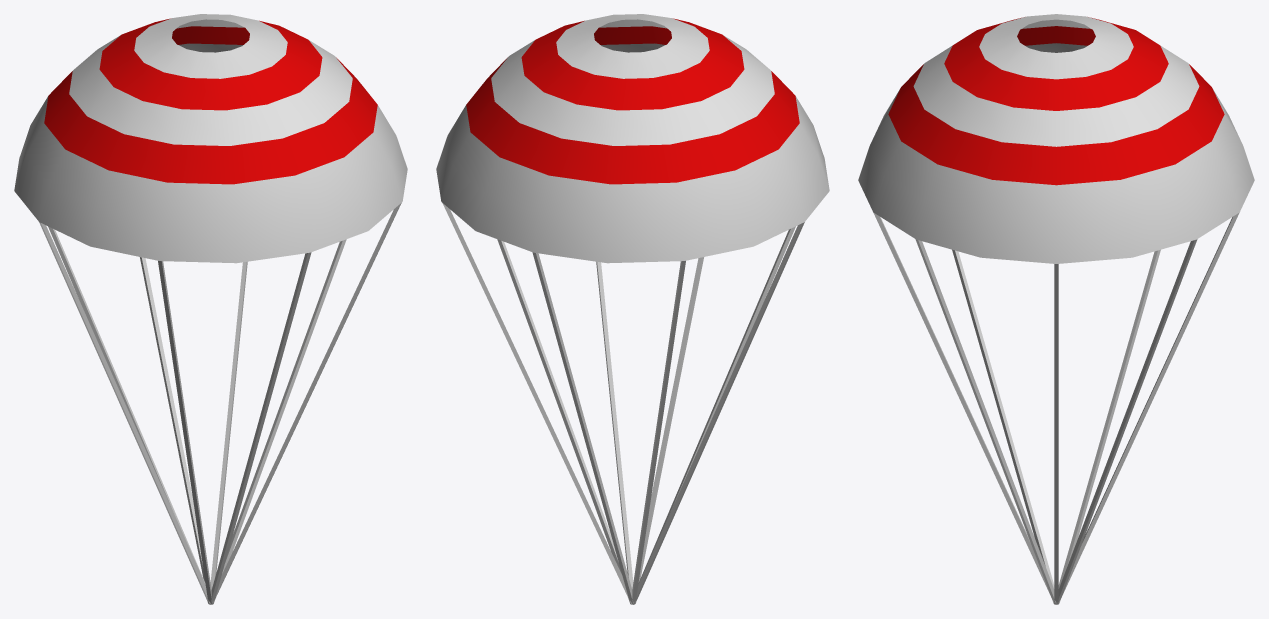
The model's file is Parachute.glb.
3 renders of one model, left to right at view 1: azimuth 30°, elevation 25°; view 2: azimuth 150°, elevation 25°; view 3: azimuth 270°, elevation 25°, orthographic.
Parts seen in each view (by area): view 1: parachute; view 2: parachute; view 3: parachute.
Part boxes in pixels (<box>): parachute: <box>14,14,407,604</box>; parachute: <box>436,14,829,604</box>; parachute: <box>858,14,1254,604</box>.
Size of the model in its own units: 2.94 by 4.64 by 2.94.
